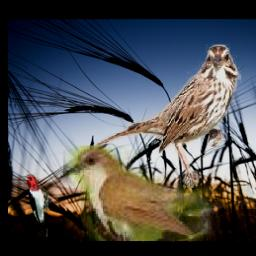Cuckoo: (63, 145, 256, 241)
Sparrow: (93, 44, 240, 188)
Woodpecker: (23, 174, 52, 237)
